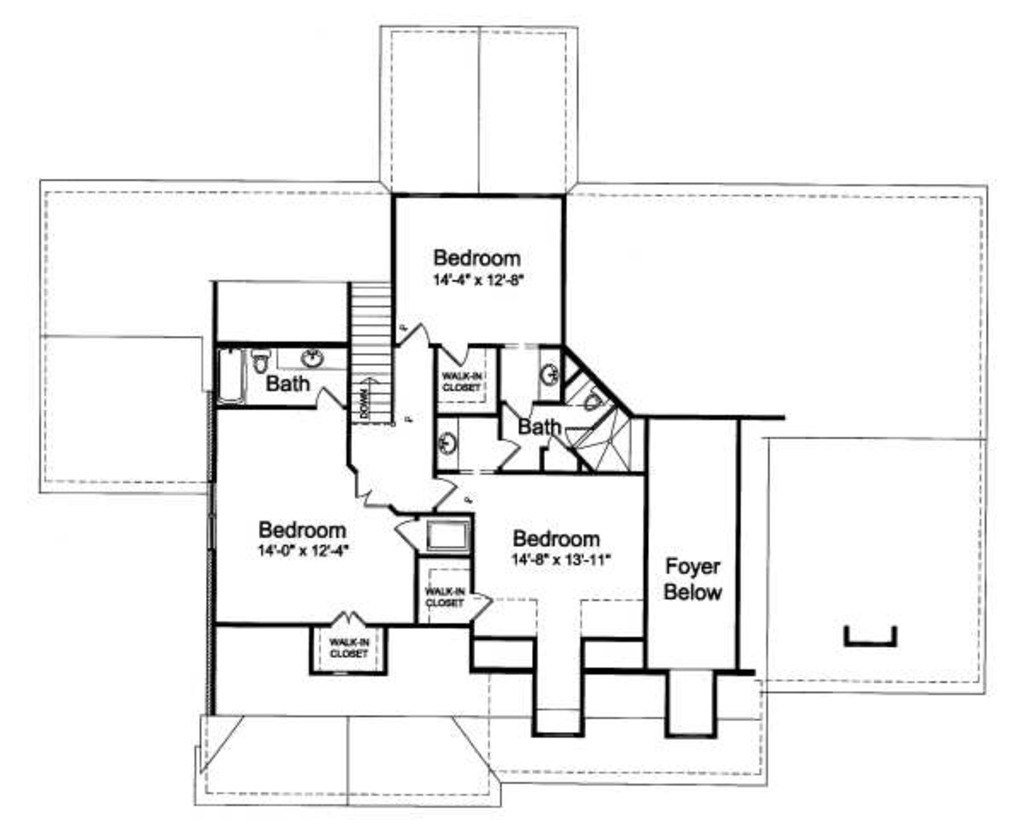door: (353, 470, 391, 516), (461, 584, 494, 626), (488, 433, 522, 473), (396, 321, 433, 355), (308, 385, 345, 413), (434, 470, 459, 510), (394, 516, 421, 553), (329, 607, 364, 633), (442, 340, 471, 365)
large_sink: (576, 381, 614, 417), (250, 343, 277, 379)
small_sink: (273, 346, 345, 375), (533, 345, 561, 401), (438, 414, 458, 469)
stairs: (342, 281, 400, 430)
tub: (214, 345, 251, 406)
windows: (201, 470, 221, 552)
